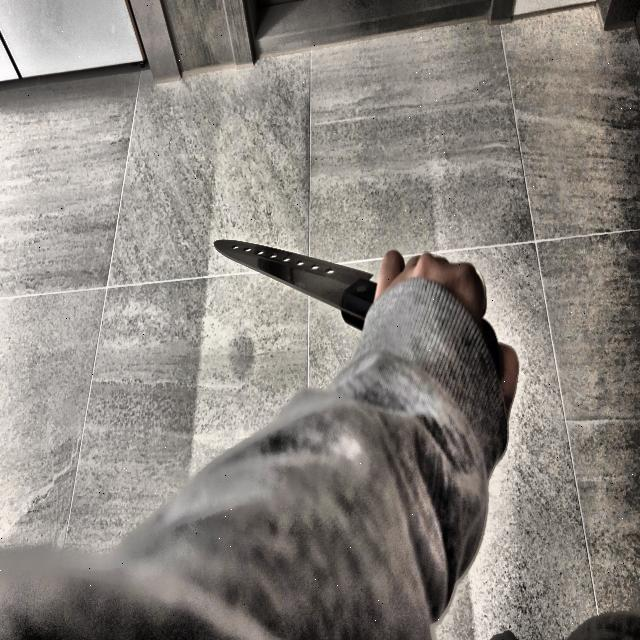knife: (215, 232, 379, 333)
